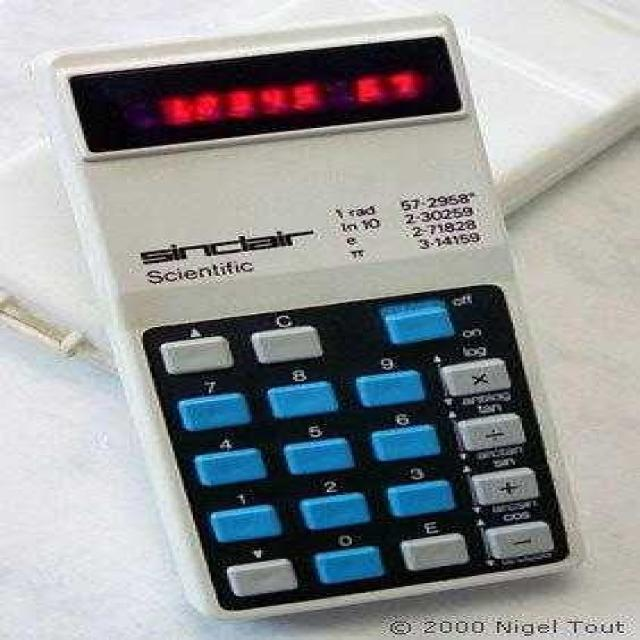Calculator: (25, 10, 581, 623)
